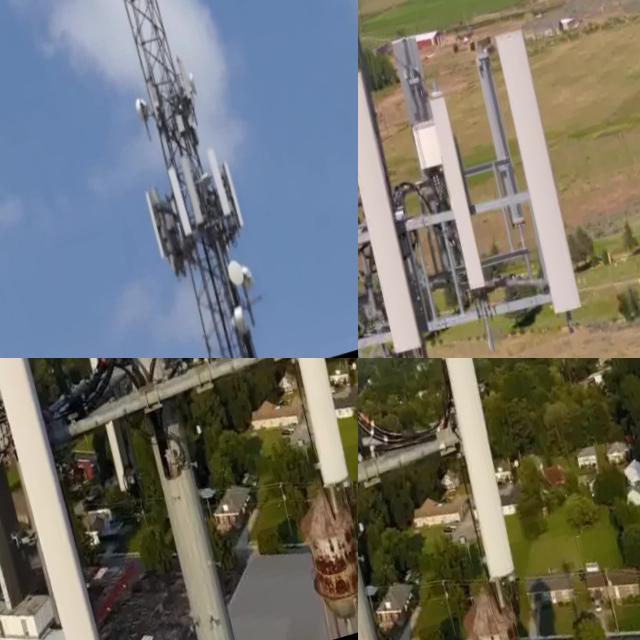GSM Antenna: (478, 23, 606, 330), (358, 60, 449, 358), (415, 85, 506, 298), (445, 358, 524, 590), (52, 358, 157, 505), (0, 379, 54, 619), (301, 358, 358, 493), (206, 144, 243, 223), (145, 185, 182, 264), (168, 166, 205, 243), (181, 152, 217, 231), (224, 160, 255, 230), (179, 57, 202, 103)
Microwave Antenna: (134, 91, 161, 132), (230, 256, 253, 292), (233, 305, 261, 334), (247, 263, 263, 294)
